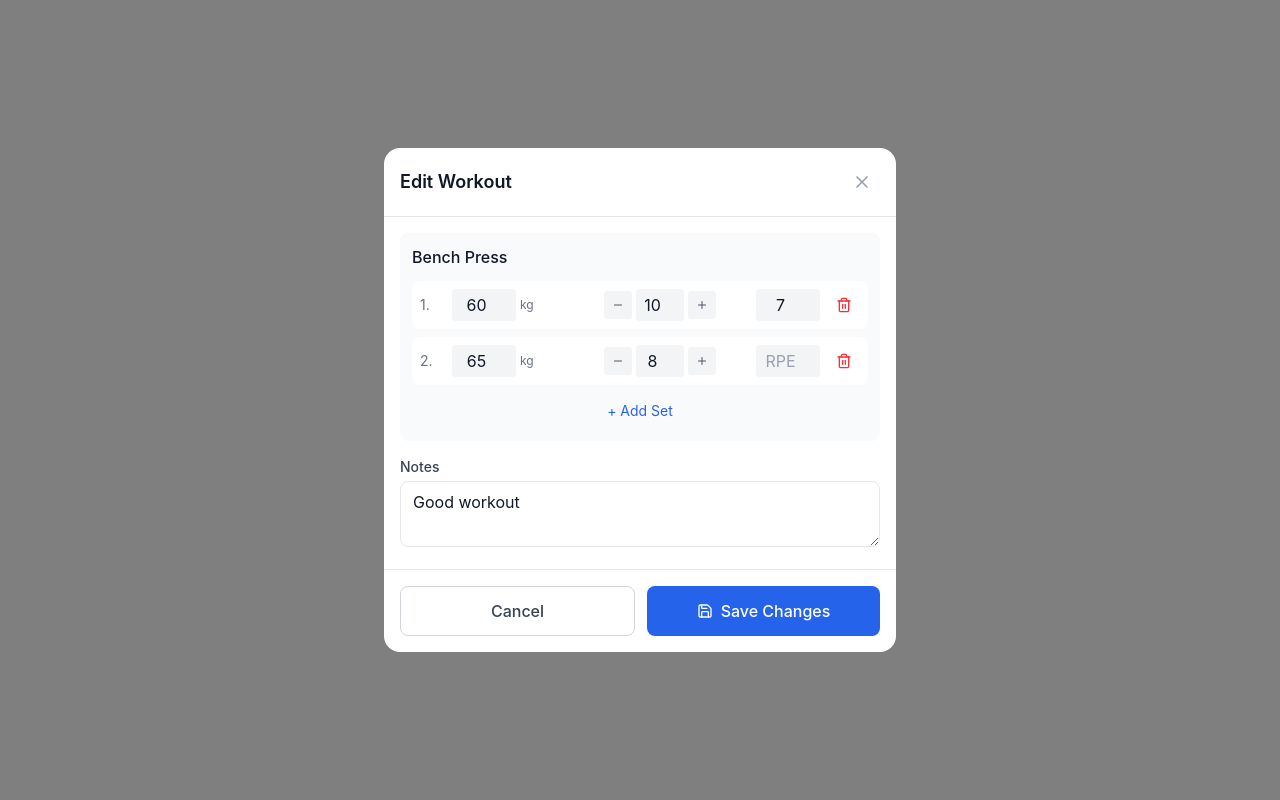
Test: EditWorkoutModal › should add new set when Add Set is clicked
Expected: the number of buttons named "Delete set" is 2, [828, 289, 860, 321]; [828, 345, 860, 377]
Click the button "+ Add Set" at (640, 411), box [412, 393, 868, 429]
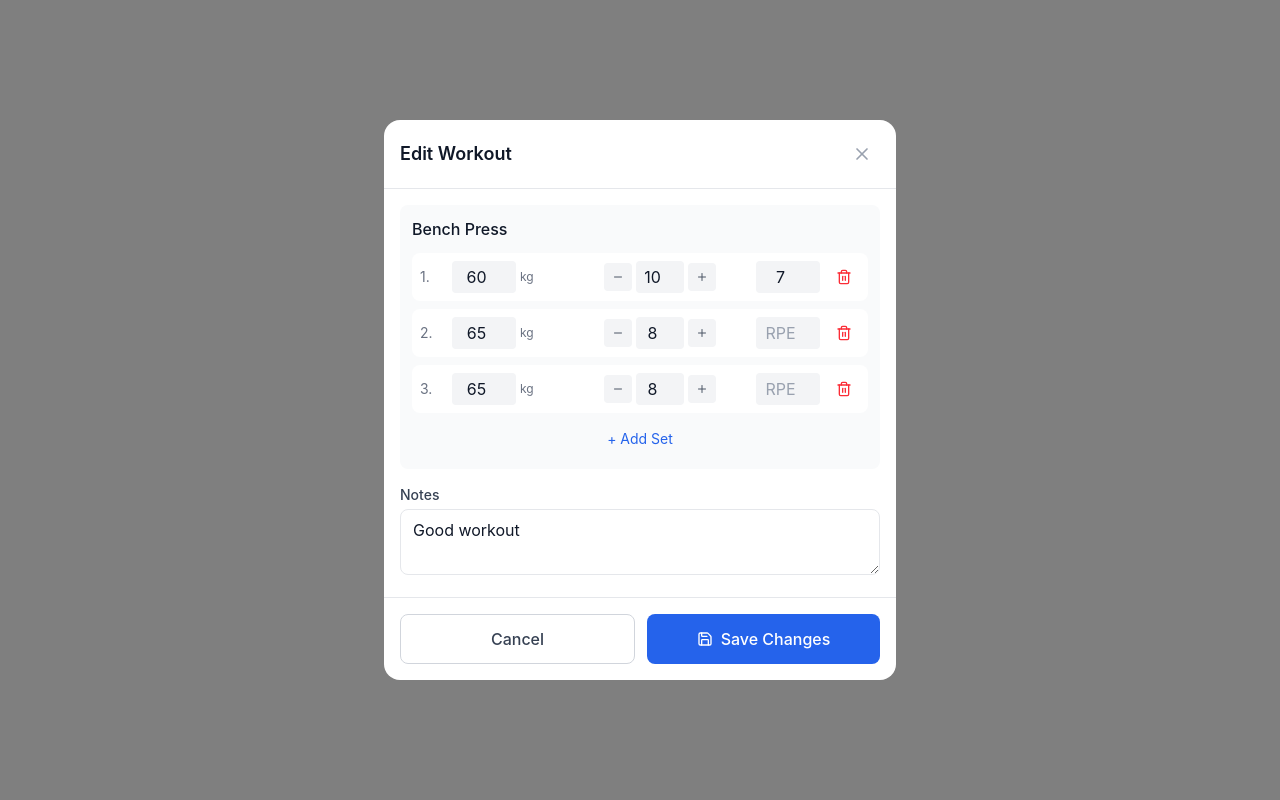
Expected: the number of buttons named "Delete set" is 3, [828, 261, 860, 293]; [828, 317, 860, 349]; [828, 373, 860, 405]
